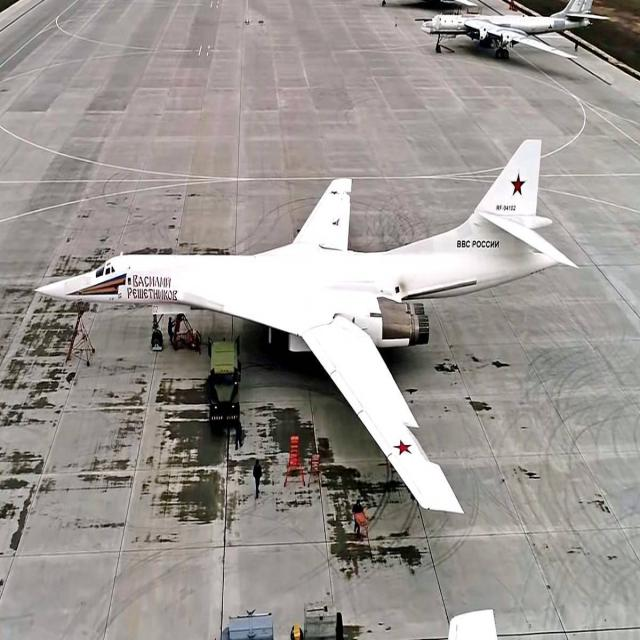MIL_Plane: (34, 139, 580, 515), (414, 1, 611, 60)
